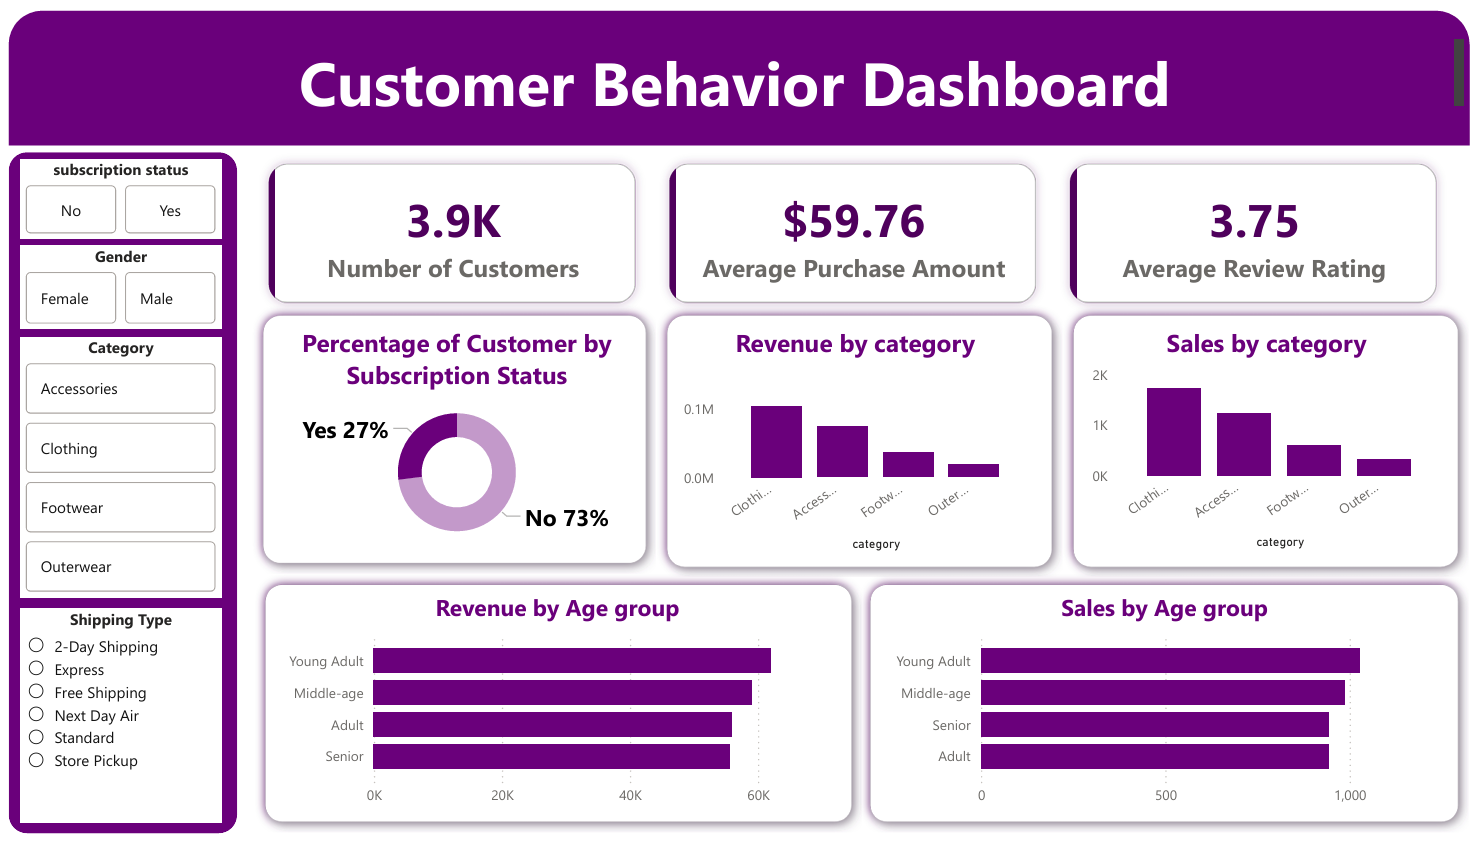

The page's visual inventory and layout, read from the dashboard file:
{"tool":"powerbi","page":{"name":"Page 1","canvas":[1280,720],"ordinal":0},"visuals":[{"type":"cardVisual","fields":{"Data":["customer_behavior customer.Number of Customers","customer_behavior customer.Average Purchase Amount","customer_behavior customer.Average Review Rating"]},"box":[200,105,1080,178.3],"z":0},{"type":"shape","box":[0,0,1280,118],"z":1000},{"type":"textbox","box":[0,20,1280,74],"z":2000},{"type":"shape","box":[215,258.9,353.3,235],"z":3000},{"type":"donutChart","title":"Percentage of Customer by Subscription Status","fields":{"Category":["customer_behavior customer.subscription_status"],"Y":["CountNonNull(customer_behavior customer.customer_id)"]},"box":[235,276.7,313.3,200],"z":4000},{"type":"shape","box":[568.3,258.9,355,238.3],"z":5000},{"type":"shape","box":[925,258.9,355,238.3],"z":6000},{"type":"clusteredColumnChart","title":"Revenue by category","fields":{"Y":["Sum(customer_behavior customer.purchase_amount)"],"Category":["customer_behavior customer.category"]},"box":[586.7,276.7,311.7,201.7],"z":7000},{"type":"clusteredColumnChart","title":"Sales by category","fields":{"Y":["CountNonNull(customer_behavior customer.customer_id)"],"Category":["customer_behavior customer.category"]},"box":[943.3,276.7,316.7,200],"z":8000},{"type":"shape","box":[0,123.3,200,596.7],"z":9000},{"type":"advancedSlicerVisual","title":"subscription status","fields":{"Values":["customer_behavior customer.subscription_status"]},"box":[10,130,176.7,70],"z":10000},{"type":"advancedSlicerVisual","title":"Gender","fields":{"Values":["customer_behavior customer.gender"]},"box":[10,206.7,176.7,73.3],"z":11000},{"type":"advancedSlicerVisual","title":"Category","fields":{"Values":["customer_behavior customer.category"]},"box":[10,286.7,176.7,228.3],"z":12000},{"type":"listSlicer","title":"Shipping Type","fields":{"Values":["customer_behavior customer.shipping_type"]},"box":[10,523.3,176.7,188.3],"z":13000},{"type":"shape","box":[215,493.6,531.5,225.6],"z":14000},{"type":"shape","box":[746.5,493.6,533,225.6],"z":15000},{"type":"clusteredBarChart","title":"Sales by Age group","fields":{"Y":["CountNonNull(customer_behavior customer.customer_id)"],"Category":["customer_behavior customer.age_group"]},"box":[766.2,508.8,493.6,196.8],"z":16000},{"type":"clusteredBarChart","title":"Revenue by Age group","fields":{"Y":["Sum(customer_behavior customer.purchase_amount)"],"Category":["customer_behavior customer.age_group"]},"box":[234.7,508.8,493.6,196.8],"z":17000}]}

Visuals, with their boxes in screenshot pixels (x1, y1, x2, y2), scaled from the page's 1280x720 canvas onto the 1479x847 screenshot:
cardVisual - customer_behavior customer.Number of Customers x customer_behavior customer.Average Purchase Amount: box(231, 124, 1478, 333)
shape: box(0, 0, 1478, 139)
textbox: box(0, 24, 1478, 111)
shape: box(248, 305, 657, 581)
"Percentage of Customer by Subscription Status" donutChart: box(272, 326, 634, 561)
shape: box(657, 305, 1067, 585)
shape: box(1069, 305, 1478, 585)
"Revenue by category" clusteredColumnChart: box(678, 326, 1038, 563)
"Sales by category" clusteredColumnChart: box(1090, 326, 1456, 561)
shape: box(0, 145, 231, 846)
"subscription status" advancedSlicerVisual: box(12, 153, 216, 235)
"Gender" advancedSlicerVisual: box(12, 243, 216, 329)
"Category" advancedSlicerVisual: box(12, 337, 216, 606)
"Shipping Type" listSlicer: box(12, 616, 216, 837)
shape: box(248, 581, 863, 846)
shape: box(863, 581, 1478, 846)
"Sales by Age group" clusteredBarChart: box(885, 599, 1456, 830)
"Revenue by Age group" clusteredBarChart: box(271, 599, 842, 830)
